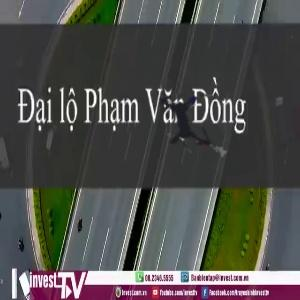drone: (117, 50, 262, 195)
